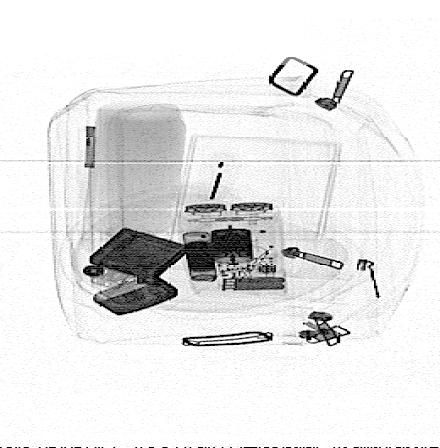Lighter: (81, 227, 192, 316)
